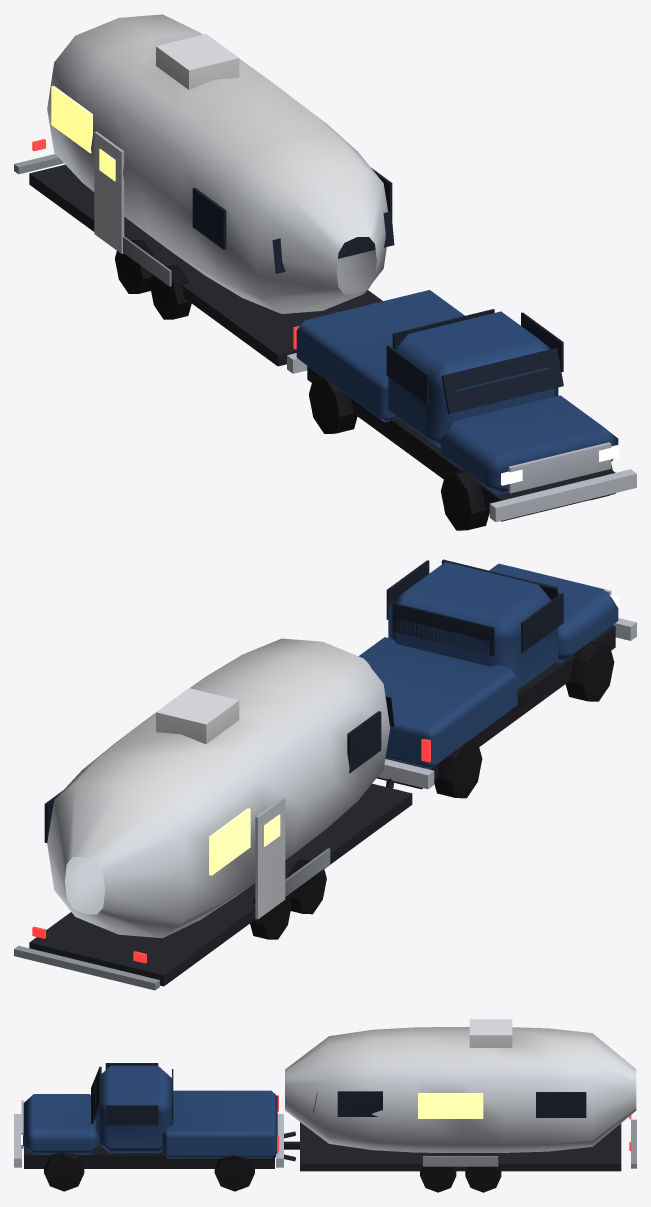
The model's file is trailer_lo.glb.
3 views of the same model, one above another, from view 1: azimuth 30°, elevation 25°; view 2: azimuth 150°, elevation 25°; view 3: azimuth 270°, elevation 25° (orthographic). The views are drawn at different scales.
Parts seen in each view (by area): view 1: shell, cab, bed, hood, t_frame, k_screen, k_frame, t_ac, k_bump_f, door, grille, k_tyre_53_0 (+9 smaller); view 2: shell, t_frame, bed, cab, hood, t_ac, door, k_back, k_frame, k_tyre_53_0, k_tyre_19_0, t_bumper (+8 smaller); view 3: shell, bed, t_frame, cab, hood, k_frame, win_1, win_0, t_ac, k_tyre_53_1, k_tyre_19_1, win_2 (+8 smaller).
Boxes of the visible parts, x1,y1,x2,y2 form: shell: (47, 14, 388, 313); cab: (388, 311, 558, 448); bed: (296, 290, 464, 422); hood: (440, 395, 618, 494); t_frame: (29, 164, 382, 366); k_screen: (441, 348, 563, 413); k_frame: (307, 366, 615, 521); t_ac: (156, 34, 239, 89); k_bump_f: (489, 469, 636, 521); door: (94, 131, 124, 253); grille: (508, 442, 611, 493); k_tyre_53_0: (441, 470, 489, 530); shell: (47, 638, 390, 938); t_frame: (29, 783, 412, 986); bed: (358, 637, 517, 769); cab: (388, 562, 558, 690); hood: (489, 563, 618, 662); t_ac: (156, 688, 239, 743); door: (255, 797, 285, 919); k_back: (392, 603, 494, 656); k_frame: (376, 625, 615, 789); k_tyre_53_0: (565, 641, 614, 701); k_tyre_19_0: (434, 740, 482, 798); t_bumper: (14, 945, 159, 990); shell: (285, 1027, 636, 1152); bed: (162, 1090, 277, 1158); t_frame: (300, 1122, 621, 1171); cab: (95, 1065, 173, 1152); hood: (23, 1094, 100, 1154); k_frame: (24, 1145, 274, 1168); win_1: (418, 1093, 483, 1118); win_0: (536, 1092, 586, 1117); t_ac: (469, 1019, 512, 1047); k_tyre_53_1: (44, 1152, 84, 1191); k_tyre_19_1: (214, 1155, 254, 1191); win_2: (337, 1091, 382, 1116).
Size of the model in its own units: 2.46 by 3.12 by 12.41.
